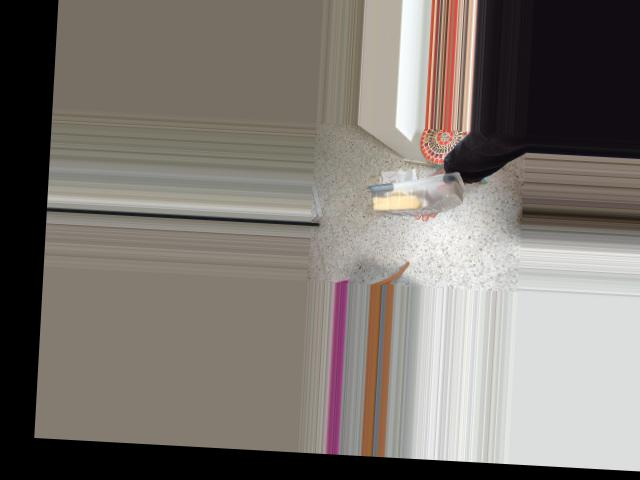cheese: (368, 163, 469, 220)
